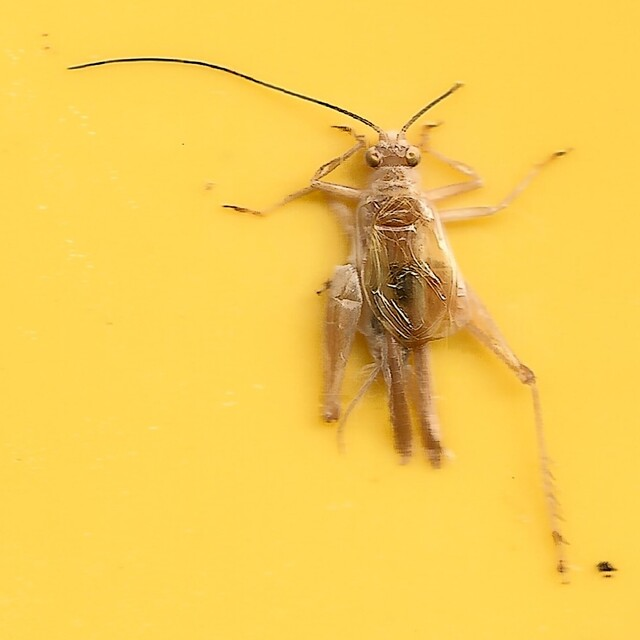Orthoptera: (65, 56, 575, 584)
